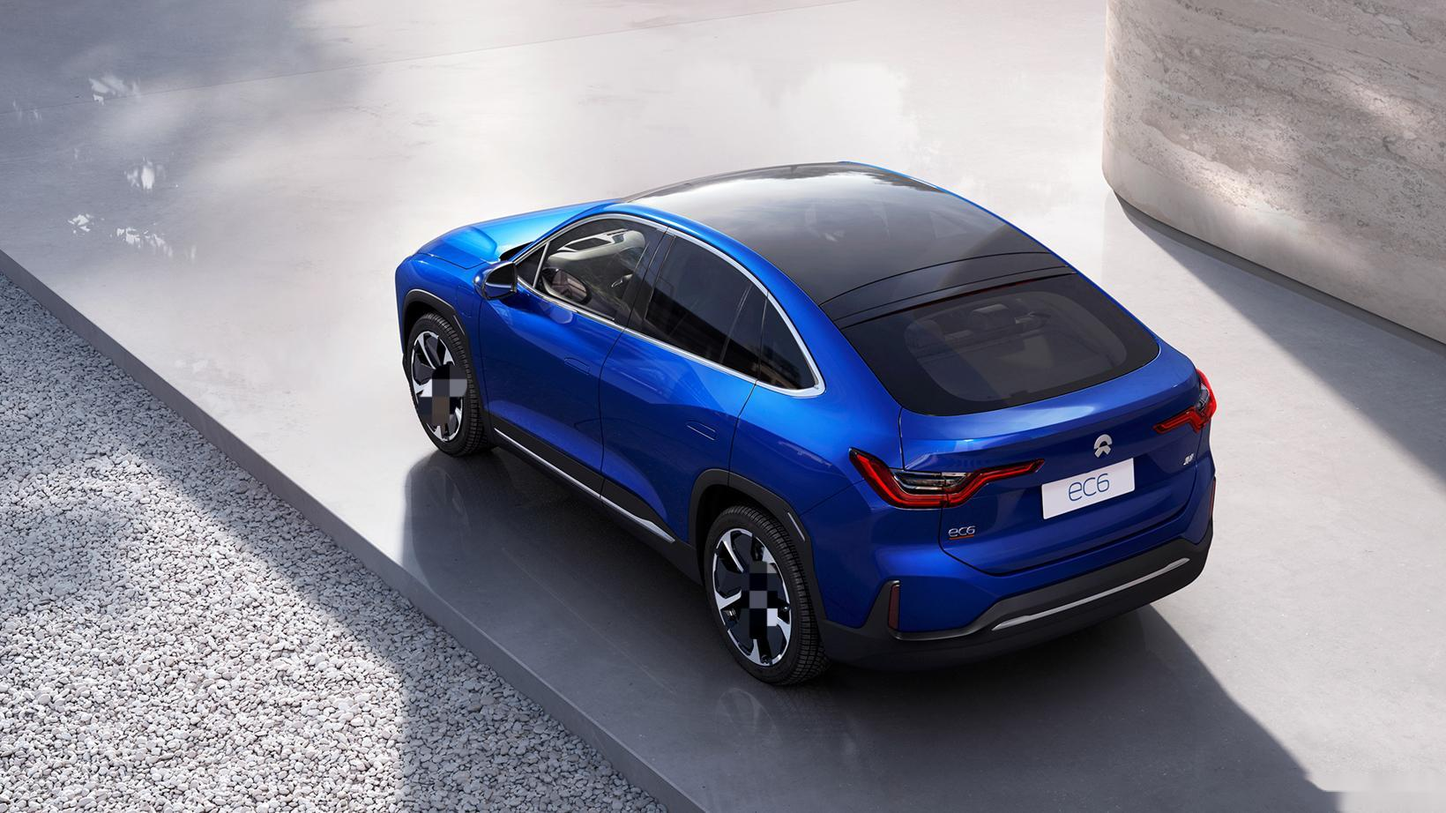NIO: (1094, 435, 1112, 458)
